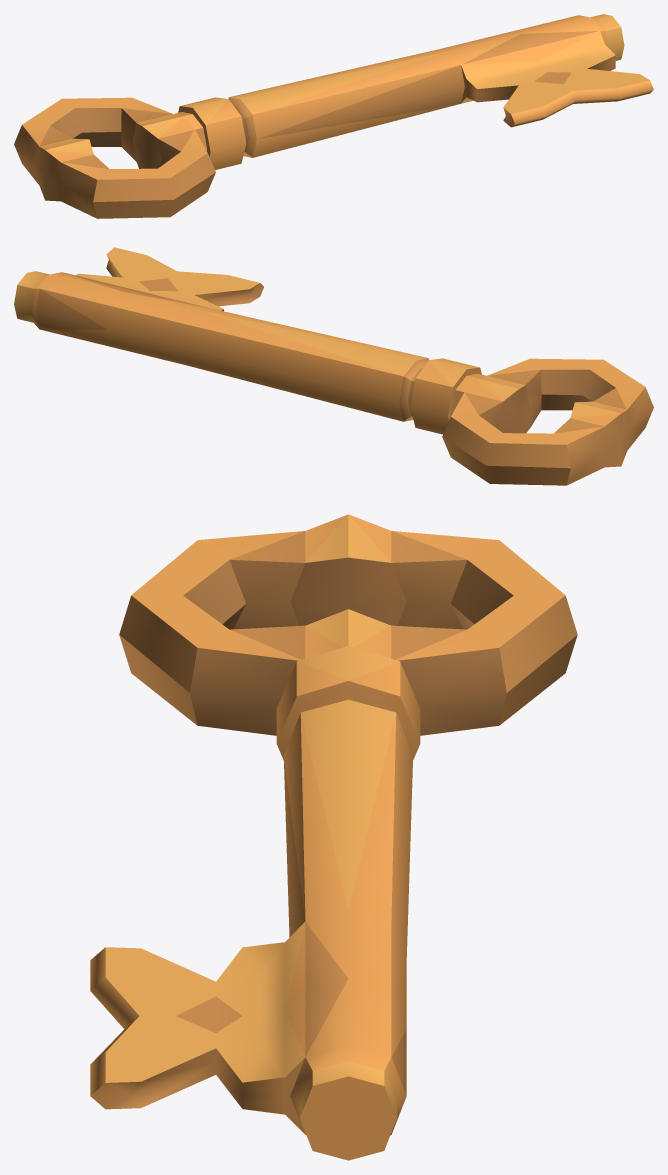
File: key.fbx
3 views of the same model, one above another, from view 1: azimuth 30°, elevation 25°; view 2: azimuth 150°, elevation 25°; view 3: azimuth 270°, elevation 25° (orthographic). The views are drawn at different scales.
Parts seen in each view (by area): view 1: key; view 2: key; view 3: key.
Boxes of the visible parts, x1,y1,x2,y2 form: key: (14, 14, 653, 218); key: (14, 247, 653, 485); key: (90, 514, 577, 1160).
Bounding box in the file's own units: 9.14 × 0.9701 × 3.4.
